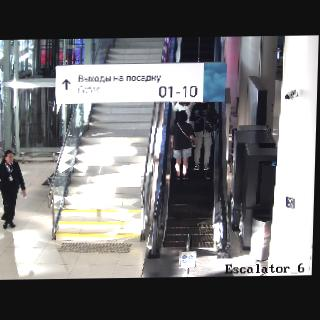normal: (0, 150, 29, 229), (167, 110, 198, 182), (188, 100, 213, 172), (171, 100, 198, 132)
